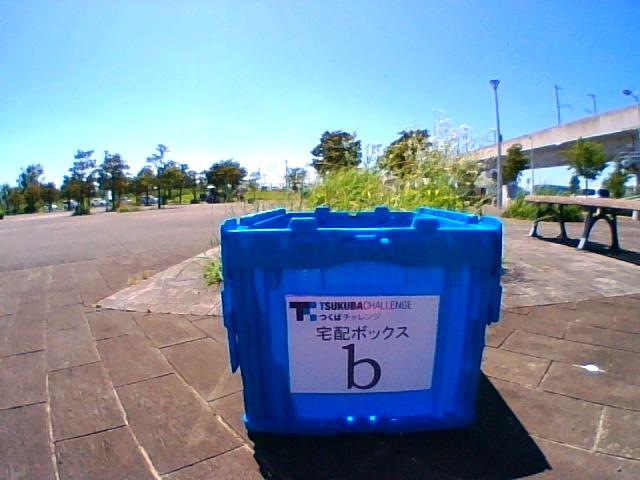blue_box: (245, 210, 471, 425)
tag_b: (289, 297, 431, 390)
